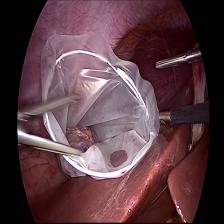Specimen Bag: (44, 16, 159, 179)
